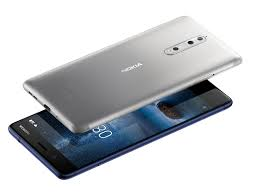nokia: (22, 13, 245, 132)
